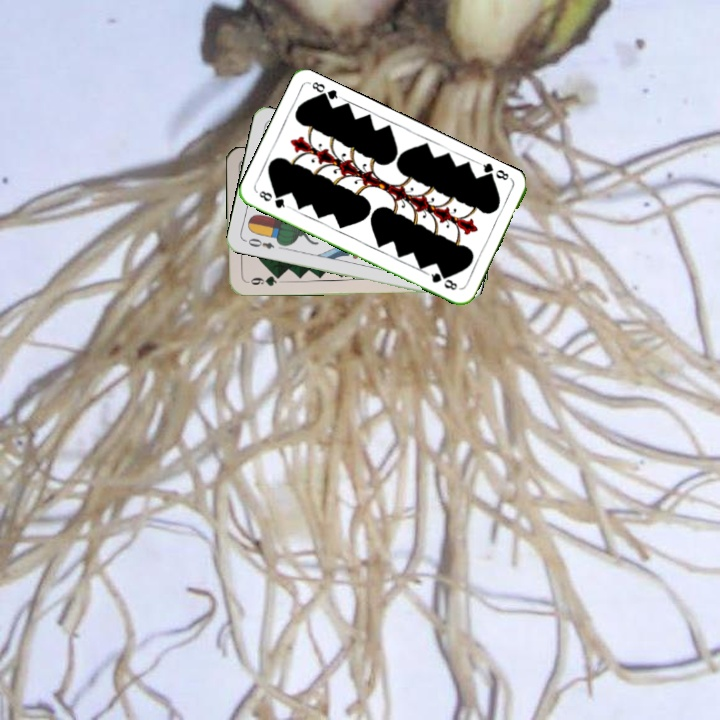EO: (244, 234, 277, 252)
G8: (476, 159, 514, 184), (255, 187, 291, 211)
G9: (242, 271, 282, 288)
